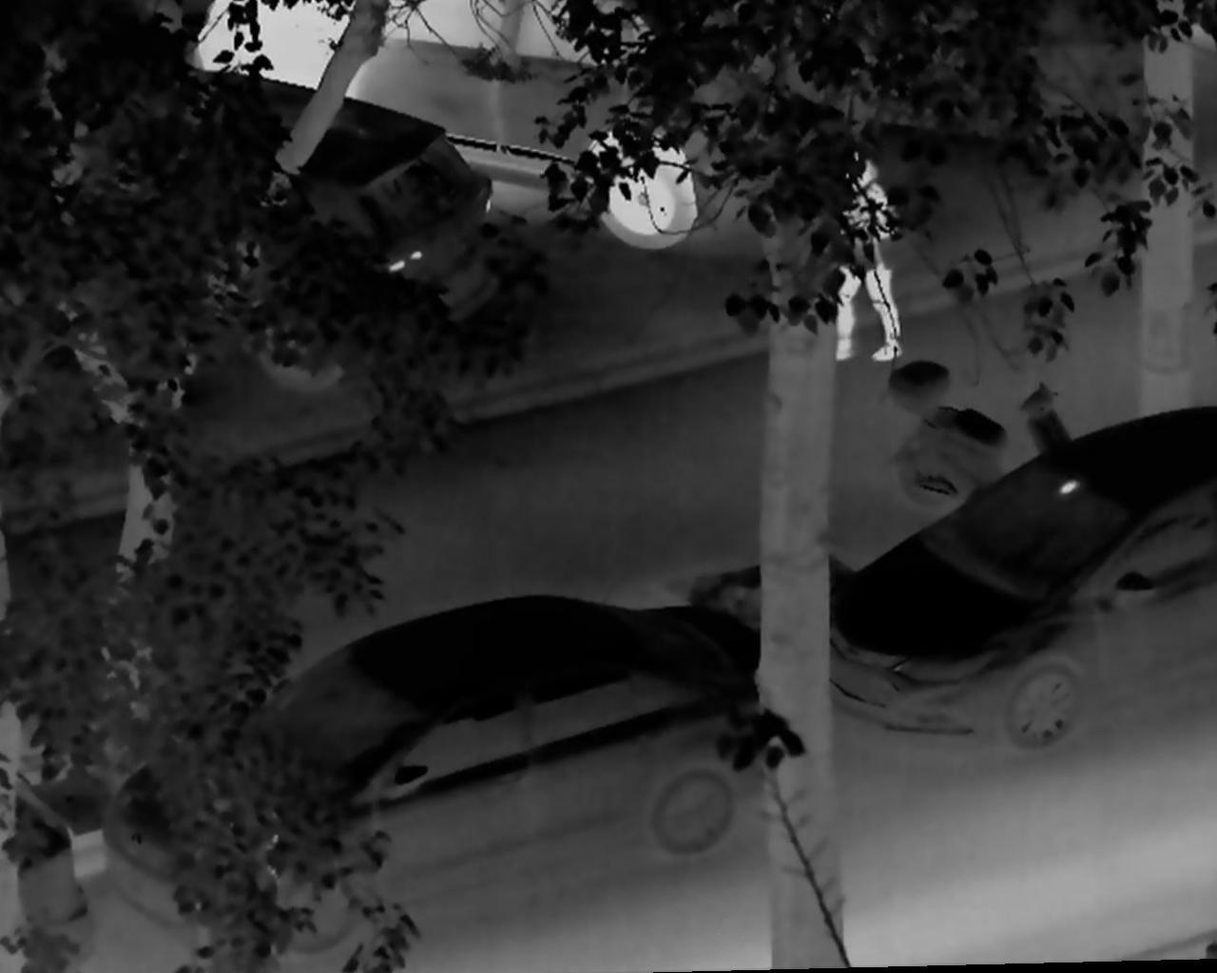person: (826, 150, 904, 364)
